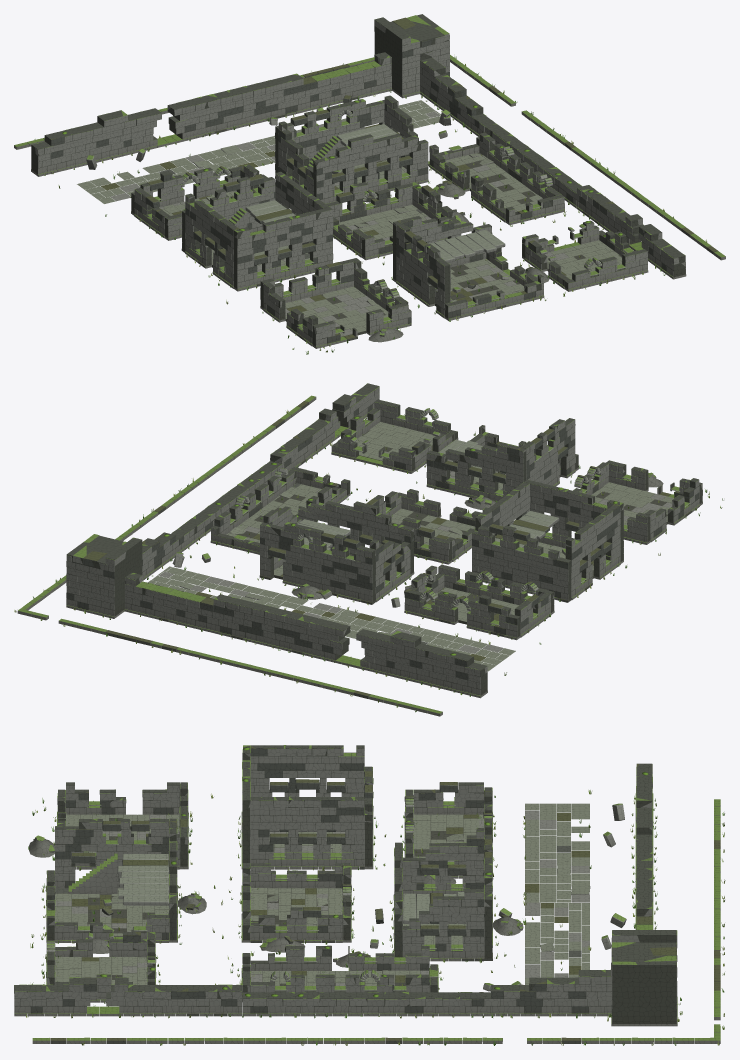
The model's file is ruin_city_northeast.glb.
3 renders of one model, top to bottom at view 1: azimuth 30°, elevation 25°; view 2: azimuth 150°, elevation 25°; view 3: azimuth 270°, elevation 25°, orthographic. The views are drawn at different scales.
Visible parts, largest first — view 1: ruin_city_northeast.001; view 2: ruin_city_northeast.001; view 3: ruin_city_northeast.001.
Part boxes in pixels (bbox=[...]): ruin_city_northeast.001: bbox=[14, 14, 725, 354]; ruin_city_northeast.001: bbox=[14, 383, 723, 716]; ruin_city_northeast.001: bbox=[14, 745, 725, 1045].
Size of what is drawn, in the model's own units: 54.63 by 7.15 by 65.52.
9 materials, 9 textured.
